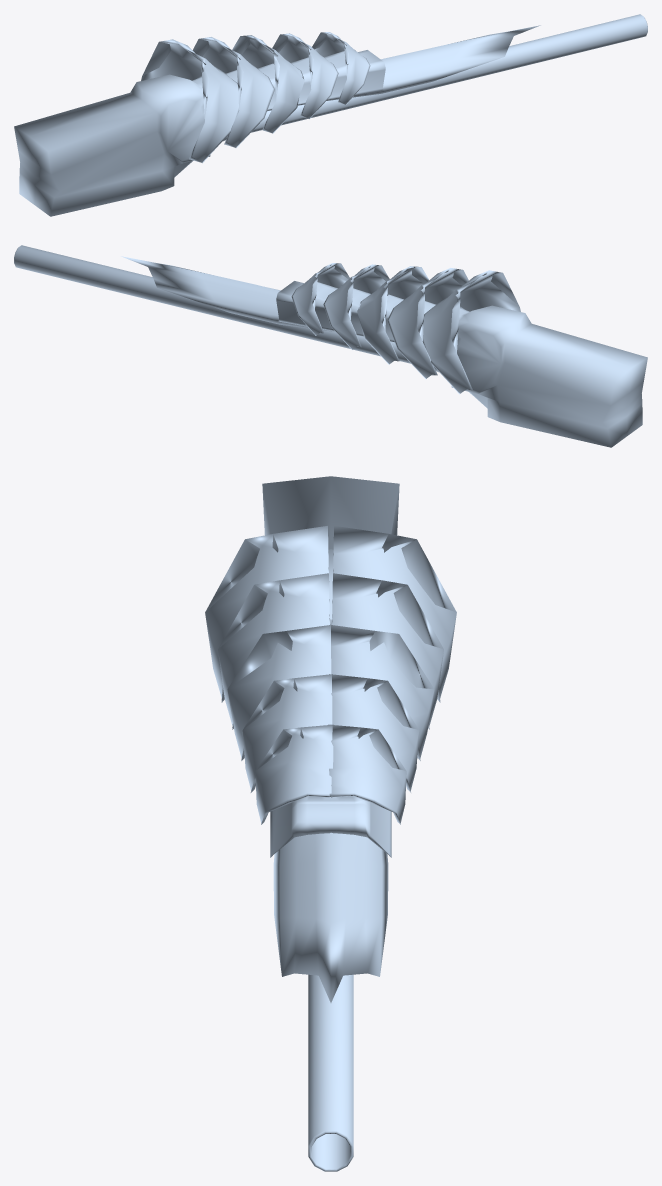
The model's file is laser1.obj.
3 renders of one model, top to bottom at view 1: azimuth 30°, elevation 25°; view 2: azimuth 150°, elevation 25°; view 3: azimuth 270°, elevation 25°, orthographic. The views are drawn at different scales.
Parts seen in each view (by area): view 1: cube1_cut2; view 2: cube1_cut2; view 3: cube1_cut2.
Part boxes in pixels (x1=…): cube1_cut2: x1=14, y1=14, x2=647, y2=216; cube1_cut2: x1=14, y1=245, x2=647, y2=447; cube1_cut2: x1=205, y1=476, x2=456, y2=1171.
Size of the model in its own units: 1.64 by 0.3183 by 0.2921.
